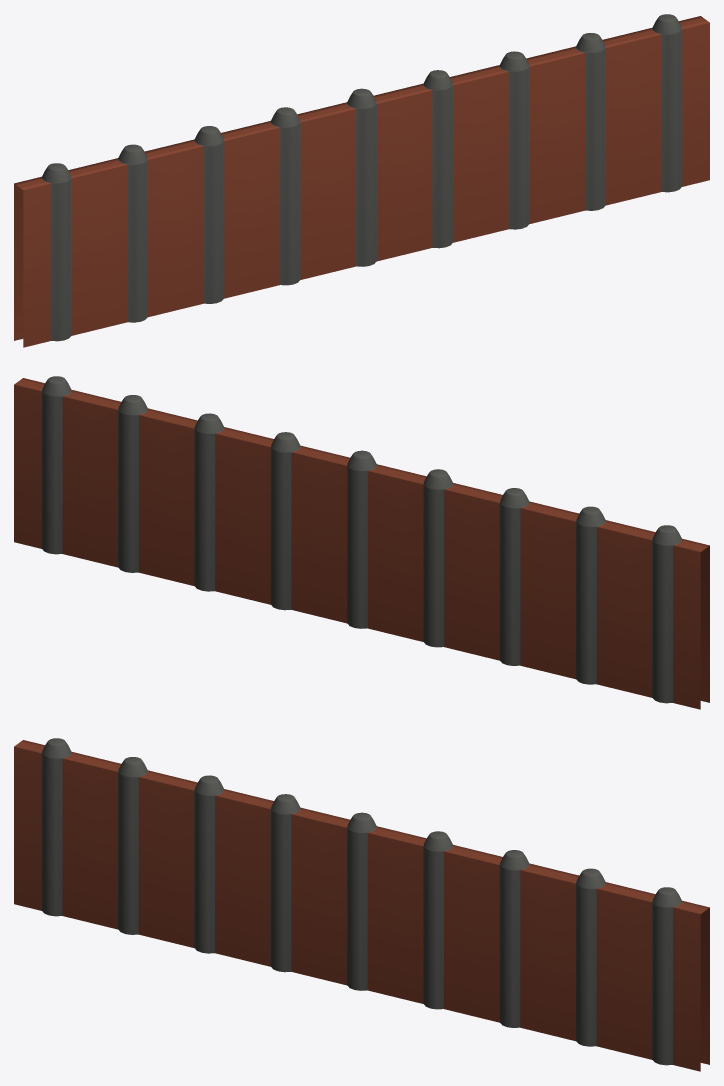
Rendered from FloodWalls.fbx.
3 renders of one model, top to bottom at view 1: azimuth 30°, elevation 25°; view 2: azimuth 150°, elevation 25°; view 3: azimuth 330°, elevation 25°, orthographic.
Parts seen in each view (by area): view 1: Cylinder.003; view 2: Cylinder.003; view 3: Cylinder.003.
Part boxes in pixels (left/top/right/bottom): Cylinder.003: left=14, top=14, right=709, bottom=347; Cylinder.003: left=14, top=376, right=709, bottom=709; Cylinder.003: left=14, top=738, right=709, bottom=1071.
Bounding box in the file's own units: 712 × 167 × 26.62.
